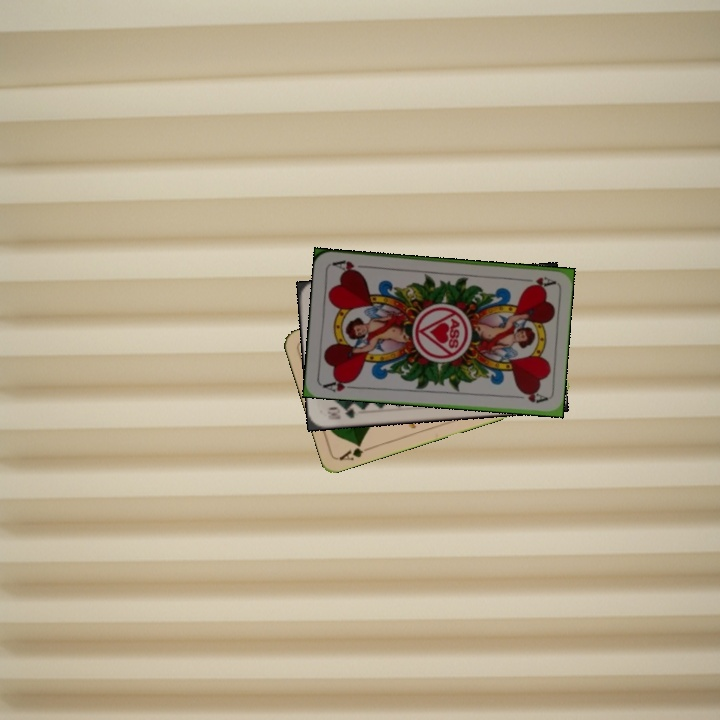G10: (323, 403, 358, 422)
GA: (335, 439, 375, 463)
HA: (319, 374, 359, 394), (516, 272, 557, 290)
